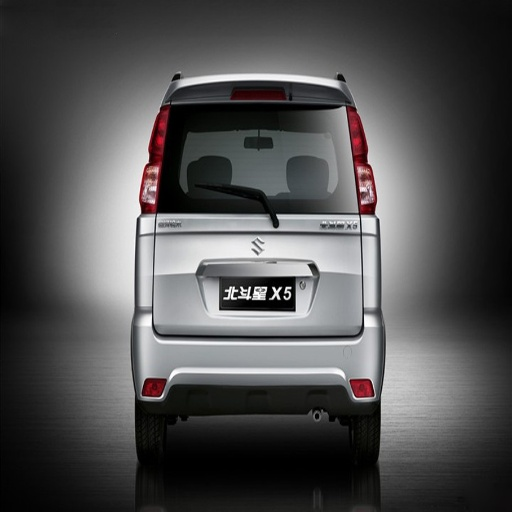back_bumper: (135, 304, 385, 411)
tailgate: (202, 279, 305, 334)
trunk: (156, 128, 374, 335)
